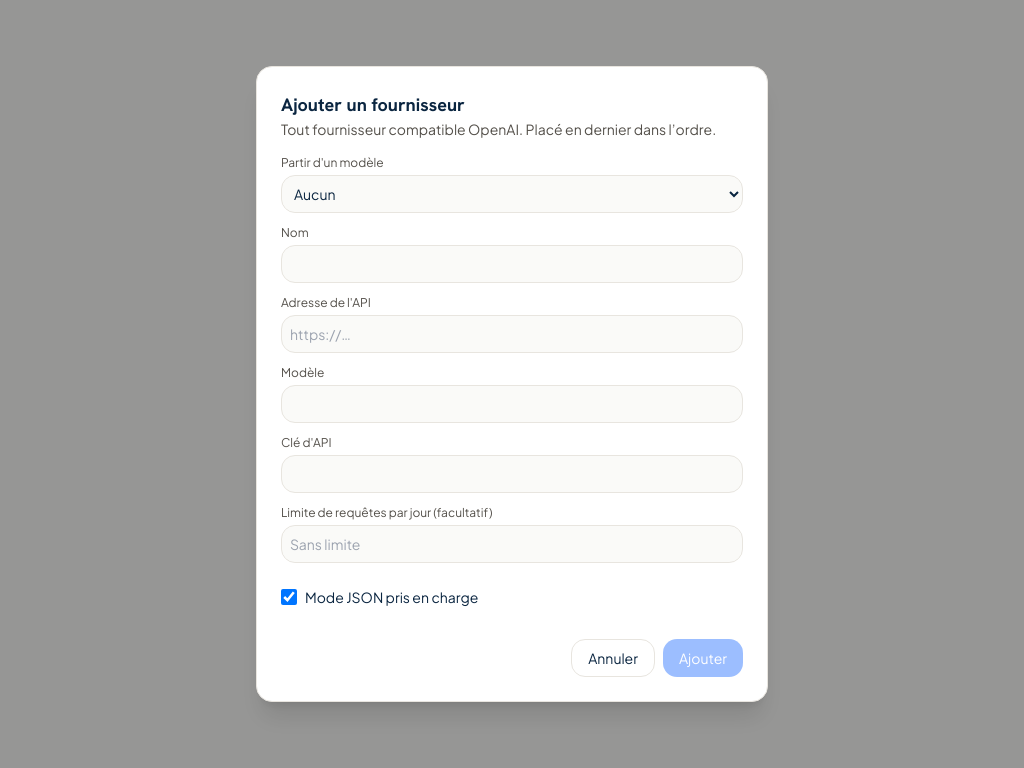
Test: ProviderFormDialog › limite par jour › « - » : erreur sous le champ, aucun envoi
This screenshot has width=1024, height=768.
Type "Groq" into the field with test id "provider-name" at (512,264), box [281, 245, 743, 283]
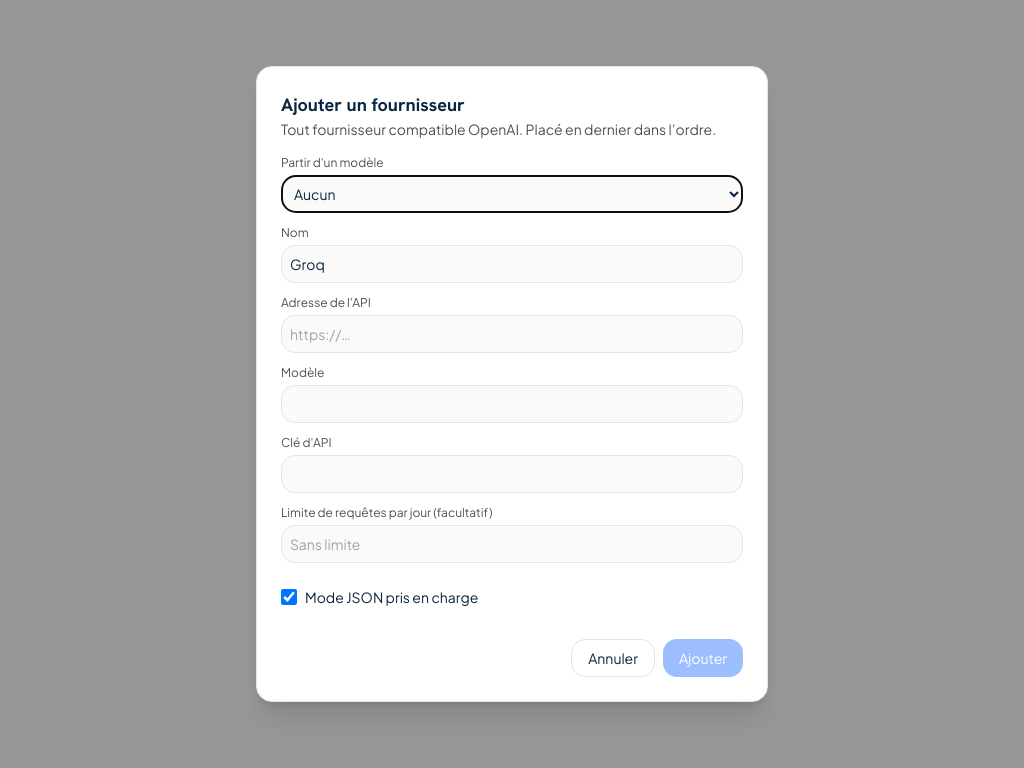
Type "https://a.com" into the field with test id "provider-base-url" at (512,334), box [281, 315, 743, 353]
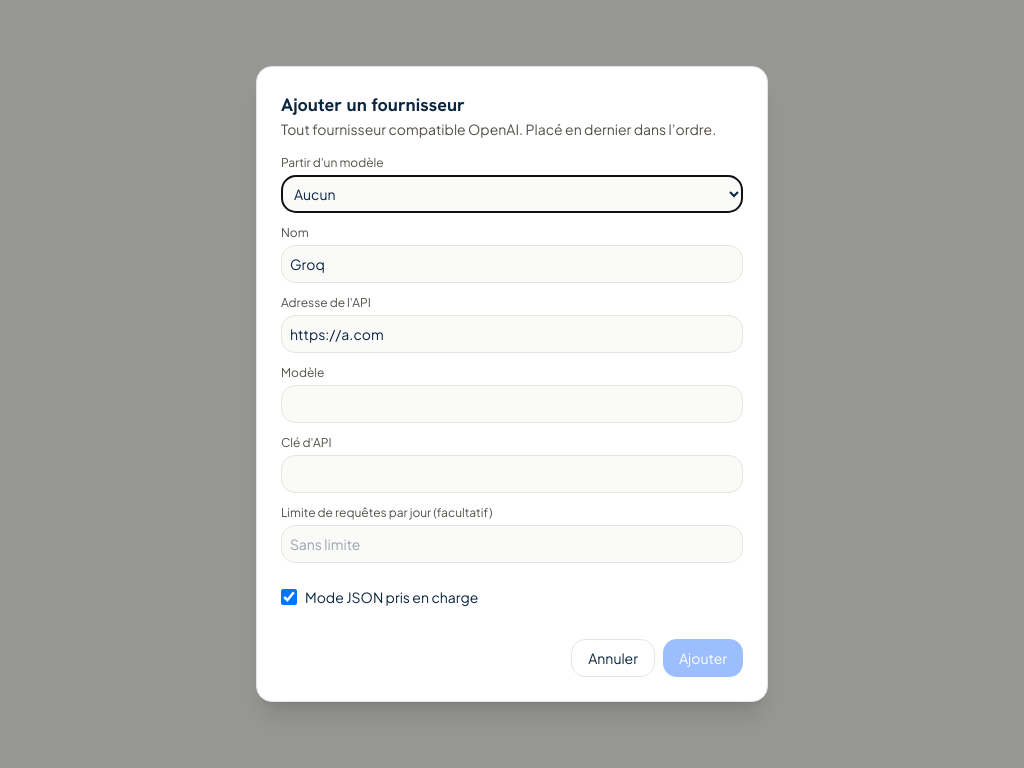
Type "m" into the field with test id "provider-model" at (512,404), box [281, 385, 743, 423]
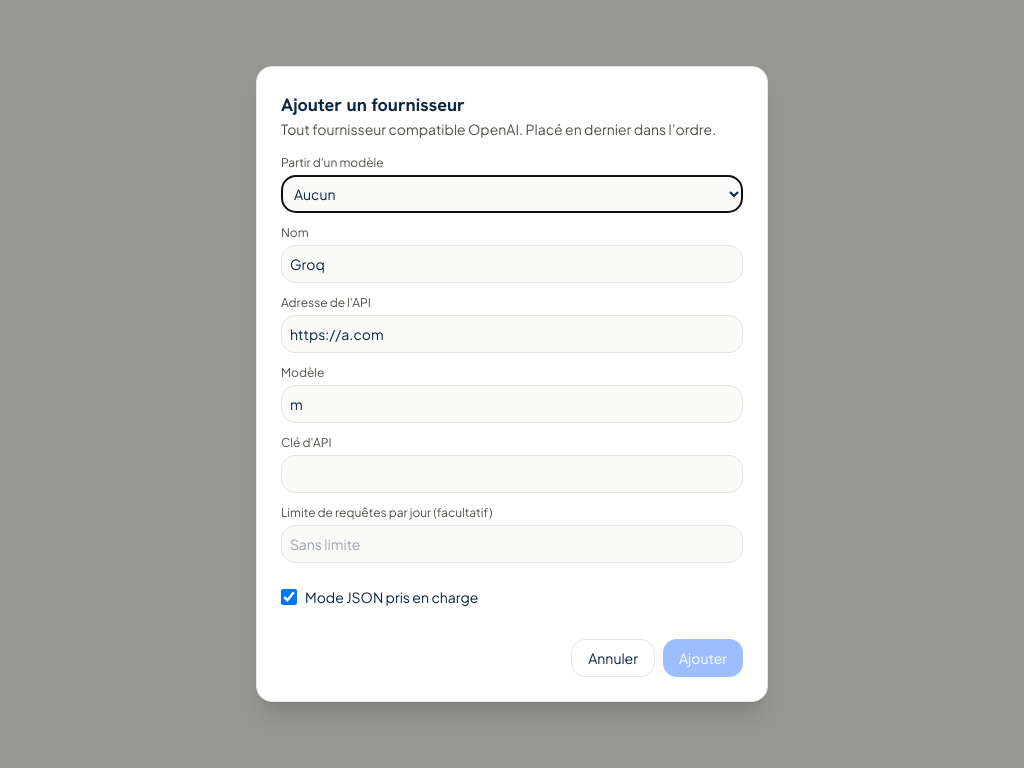
Type "gsk_secret_1" into the password field with test id "provider-api-key" at (512,474), box [281, 455, 743, 493]
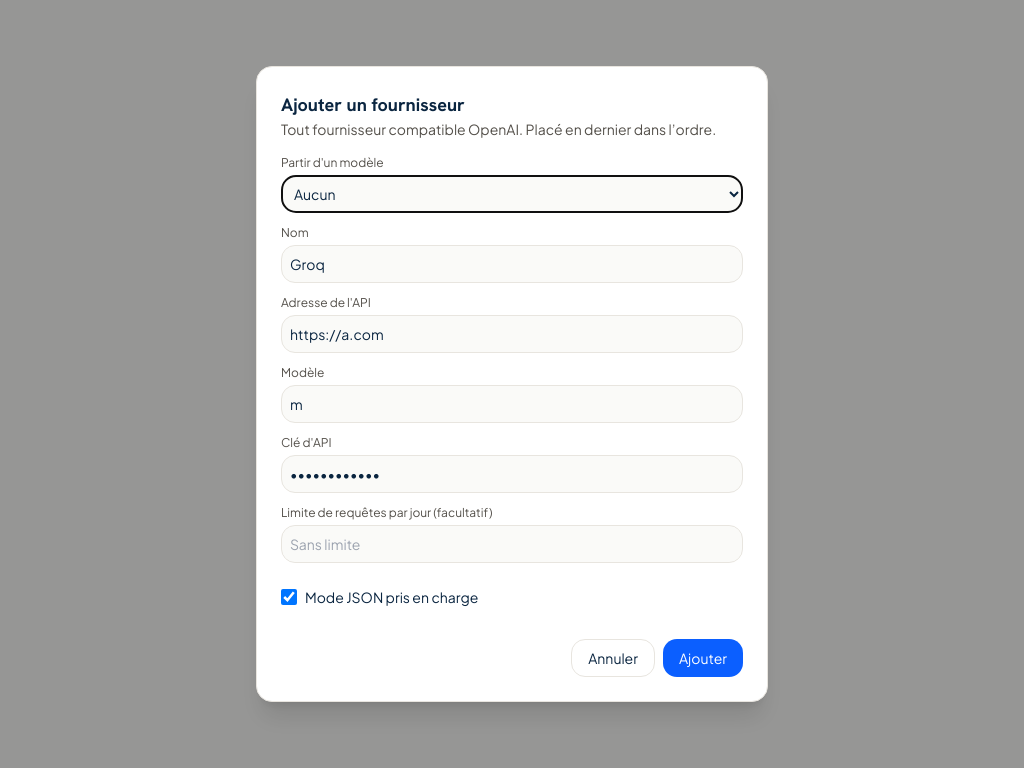
Type "-" into the field with test id "provider-limit" at (512,544), box [281, 525, 743, 563]
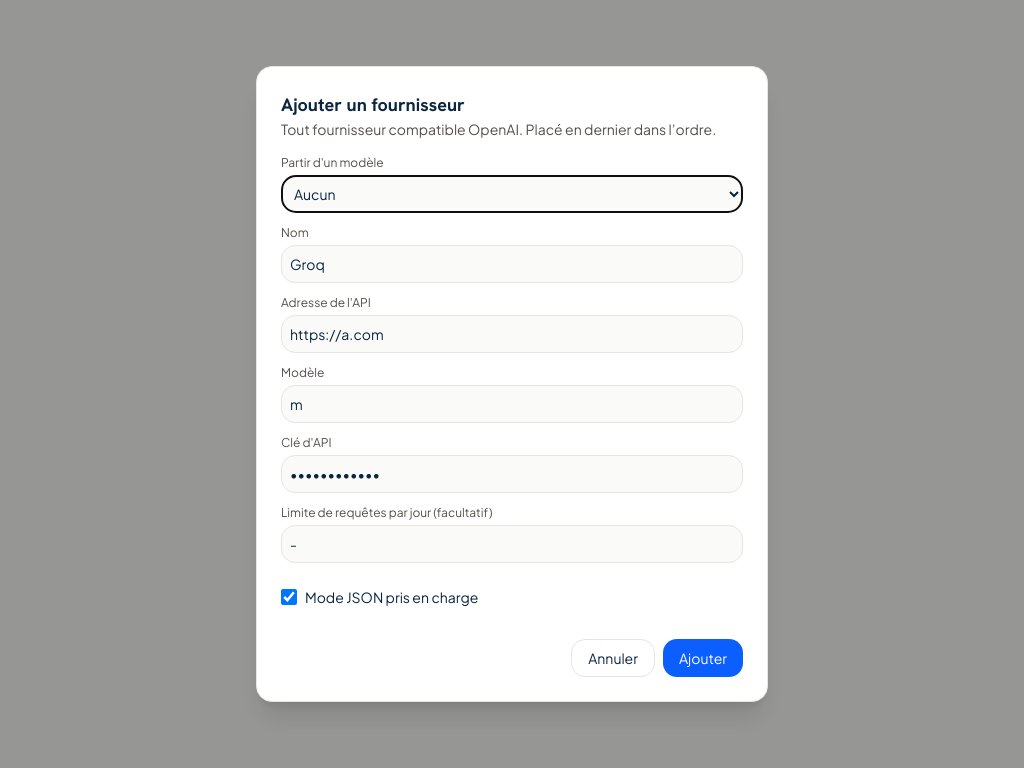
Click the button with test id "provider-submit" at (703,658), box [663, 639, 743, 677]
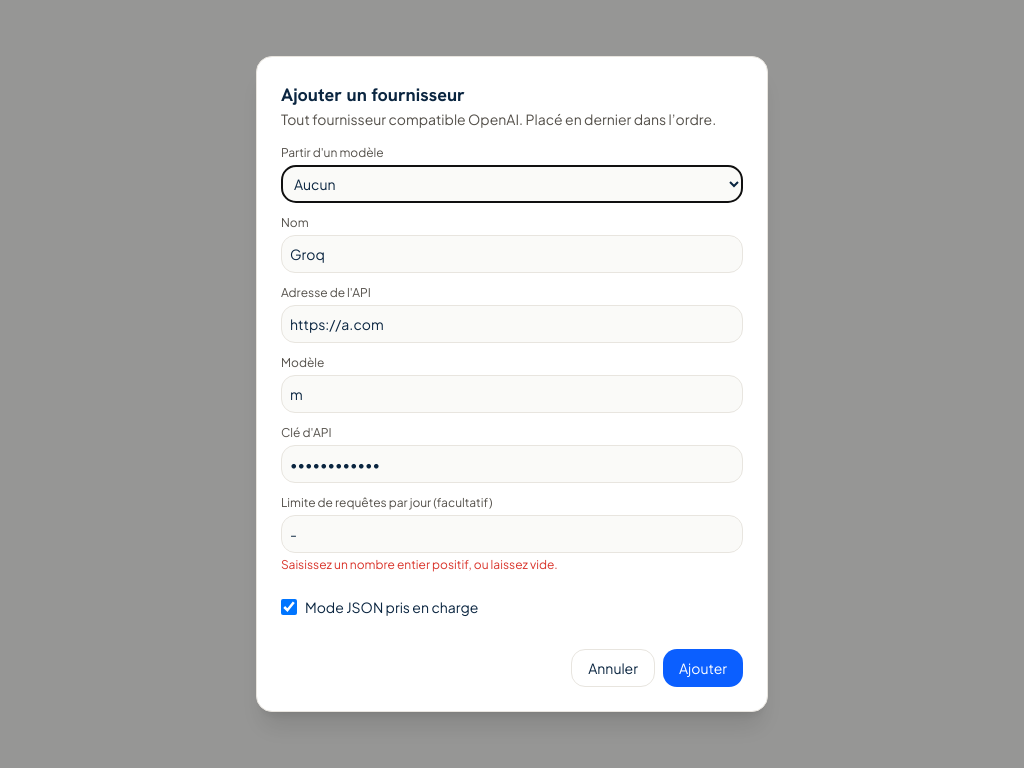
Result: the text with test id "provider-field-error-dailyRequestLimit" reads "Saisissez un nombre entier positif, ou laissez vide." at [281, 557, 558, 572]
